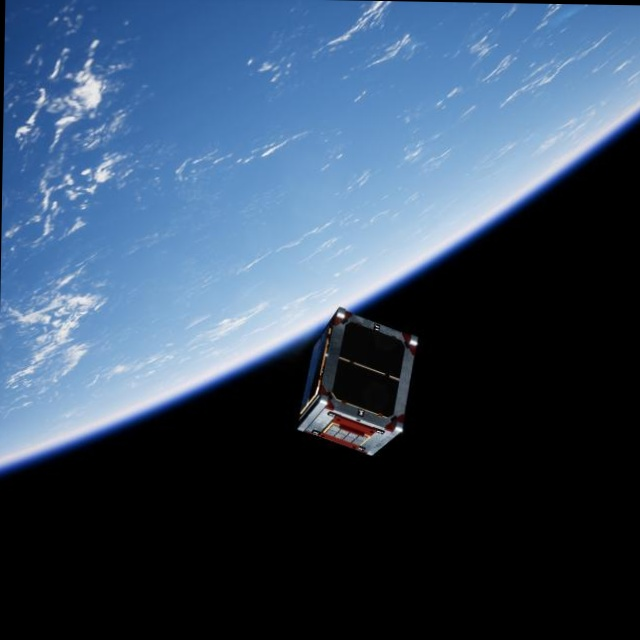satellite: (290, 310, 431, 461)
